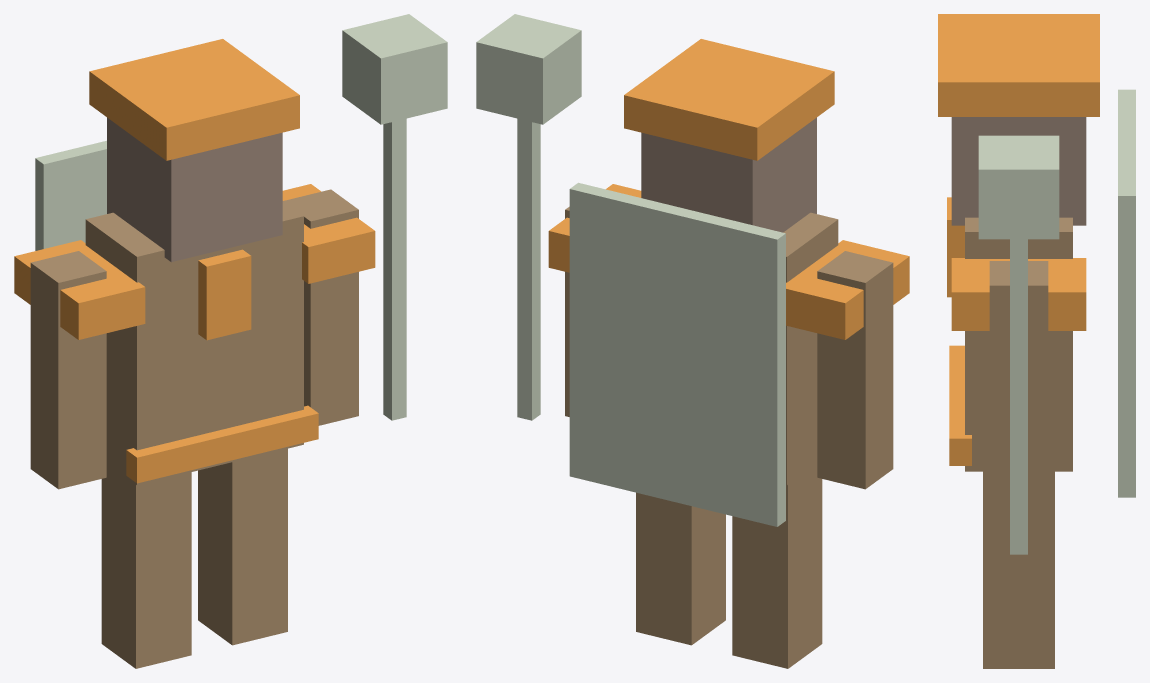
File: 09_cassian_mossguard_cartographer_under_humming.glb
The picture shows the model from 3 angles, left to right: view 1: azimuth 30°, elevation 25°; view 2: azimuth 150°, elevation 25°; view 3: azimuth 270°, elevation 25°; orthographic projection. The views are drawn at different scales.
Parts seen in each view (by area): view 1: Cassian Mossguard, Cartographer under Humming; view 2: Cassian Mossguard, Cartographer under Humming; view 3: Cassian Mossguard, Cartographer under Humming.
Part boxes in pixels (box(x1,y1,x2,y2)): Cassian Mossguard, Cartographer under Humming: box(14, 14, 447, 668); Cassian Mossguard, Cartographer under Humming: box(476, 14, 909, 668); Cassian Mossguard, Cartographer under Humming: box(938, 14, 1135, 668).
Bounding box in the file's own units: 1.03 × 1.43 × 0.4392.
